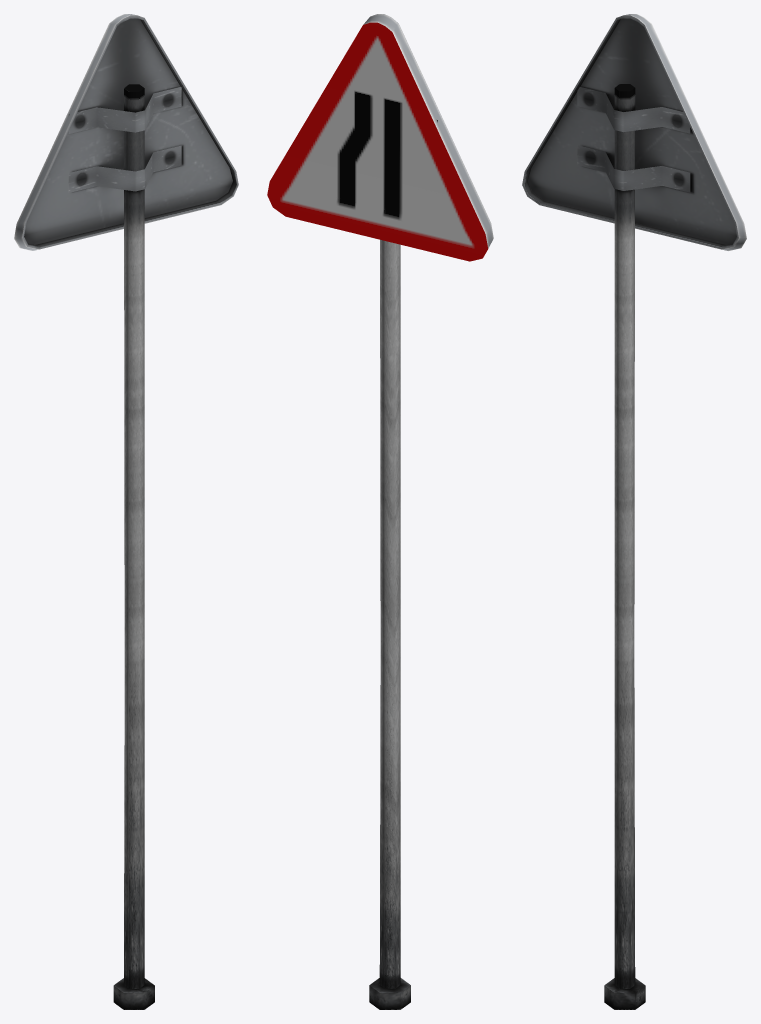
The model's file is TRF0310003.FBX.
3 renders of one model, left to right at view 1: azimuth 30°, elevation 25°; view 2: azimuth 150°, elevation 25°; view 3: azimuth 330°, elevation 25°, orthographic.
Parts seen in each view (by area): view 1: smTRF0310003; view 2: smTRF0310003; view 3: smTRF0310003.
Part boxes in pixels (<box>): smTRF0310003: <box>14,14,238,1009</box>; smTRF0310003: <box>267,14,493,1009</box>; smTRF0310003: <box>522,14,746,1009</box>.
Bounding box in the file's own units: 70.52 × 302 × 12.16.
1 material, 1 textured.
